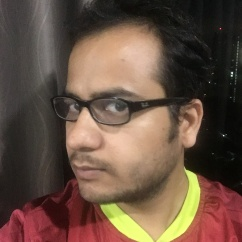glasses: (46, 93, 185, 122)
